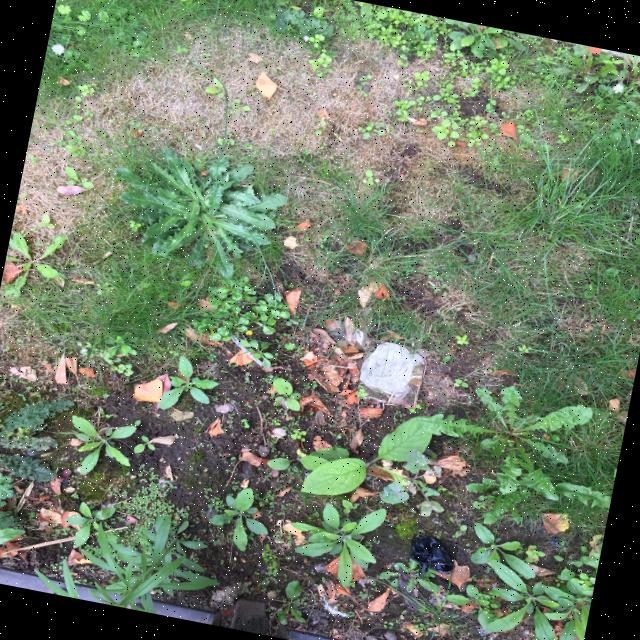Plastic film: (360, 343, 425, 405), (411, 537, 455, 578), (328, 321, 377, 349)
